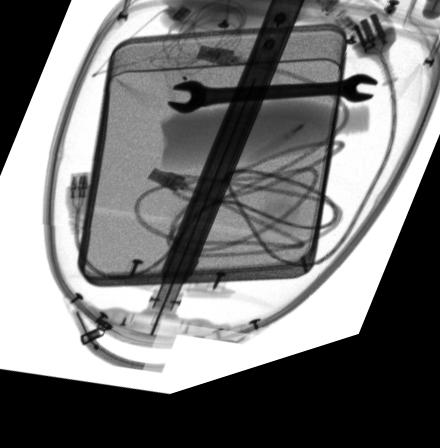Wrench: (166, 91, 378, 126)
